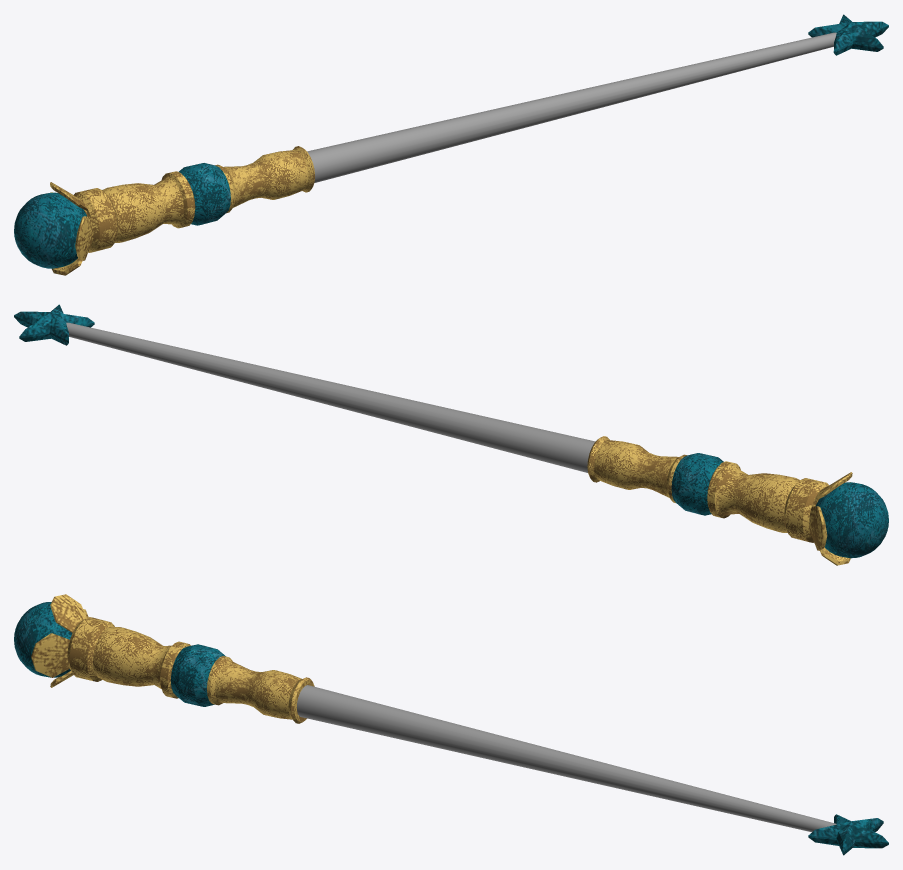
File: Boss_Stick.fbx
3 renders of one model, top to bottom at view 1: azimuth 30°, elevation 25°; view 2: azimuth 150°, elevation 25°; view 3: azimuth 330°, elevation 25°, orthographic.
Visible parts, largest first — view 1: WpMD_magicwand_I; view 2: WpMD_magicwand_I; view 3: WpMD_magicwand_I.
Part boxes in pixels (left/top/right/bottom): WpMD_magicwand_I: left=14, top=14, right=888, bottom=275; WpMD_magicwand_I: left=14, top=304, right=888, bottom=565; WpMD_magicwand_I: left=14, top=594, right=888, bottom=855.
Size of the model in its own units: 45.61 by 4.4 by 4.3.
